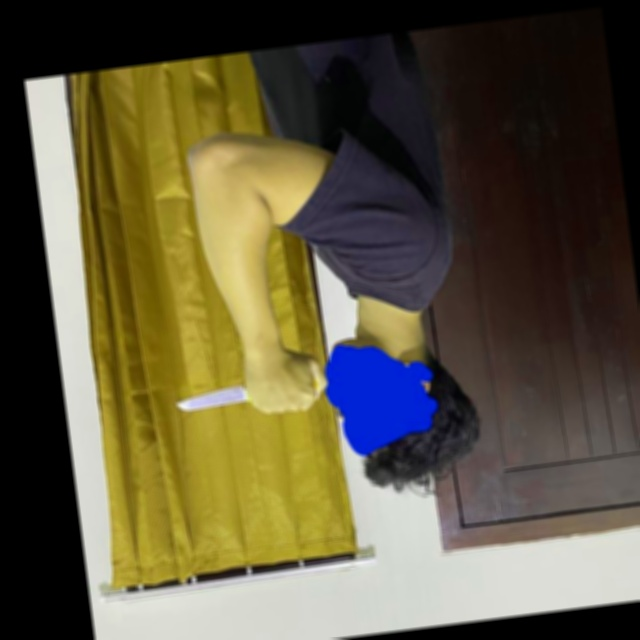Sharp-Object: (173, 383, 251, 414)
